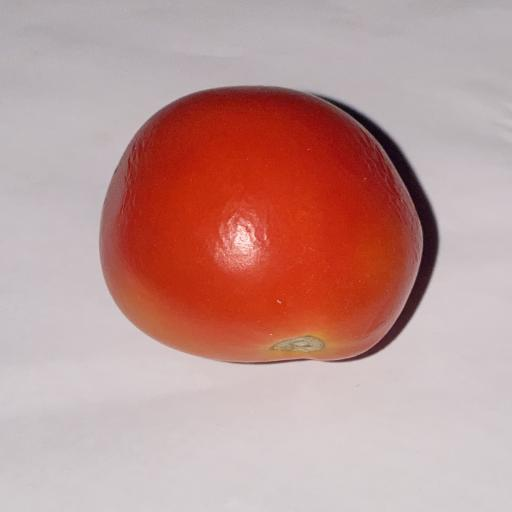ripe: (100, 87, 422, 362)
